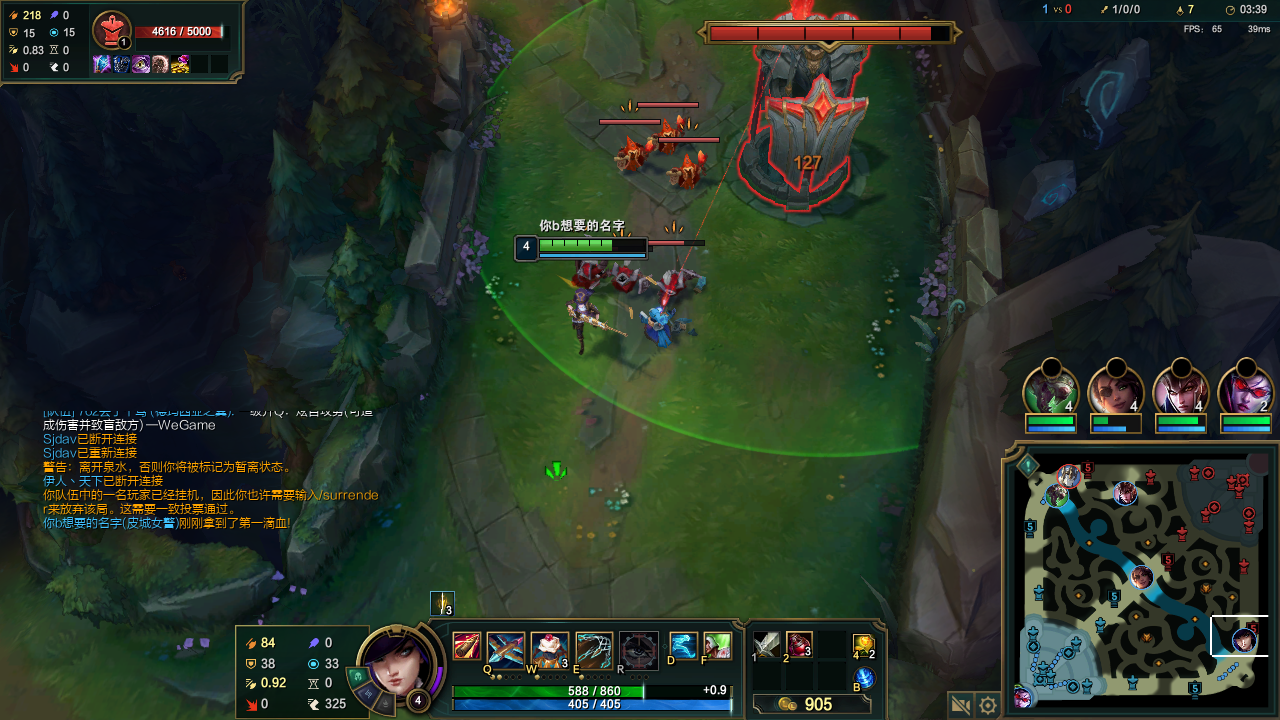DFFYT: (719, 16, 895, 215)
DFXB: (653, 266, 699, 293), (674, 155, 702, 191), (617, 141, 647, 173), (656, 124, 683, 152), (613, 266, 637, 293), (578, 264, 603, 287)
WFXB: (644, 313, 677, 344)
Yita: (1187, 673, 1203, 700)
